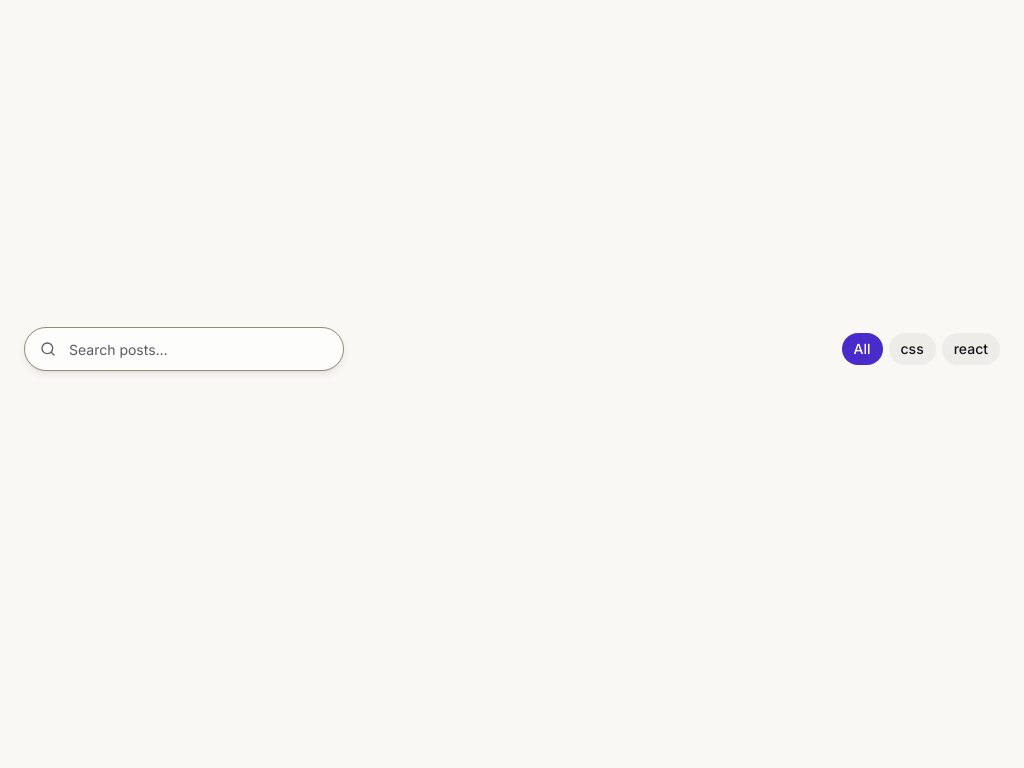
Test case: BlogListPage › filters by topic, and drops the lead story while filtering
Step 1. Click the button "css" → [912, 349], box [888,333,936,365]
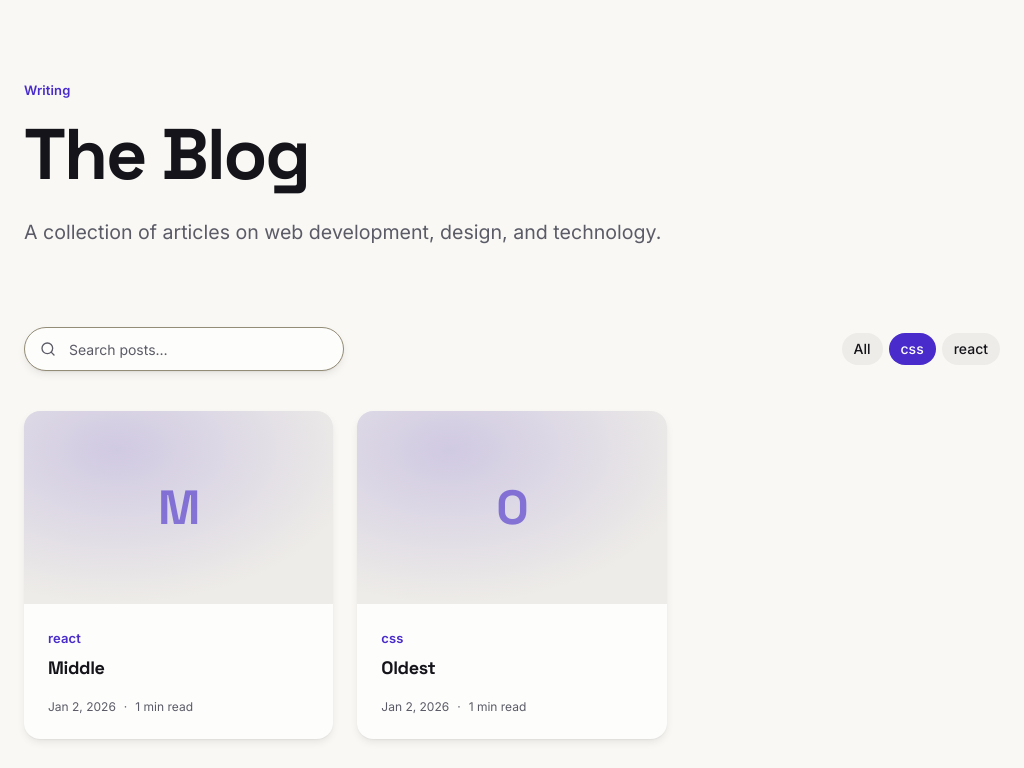
Result: the heading "Middle" is shown at [48,656,105,679]
